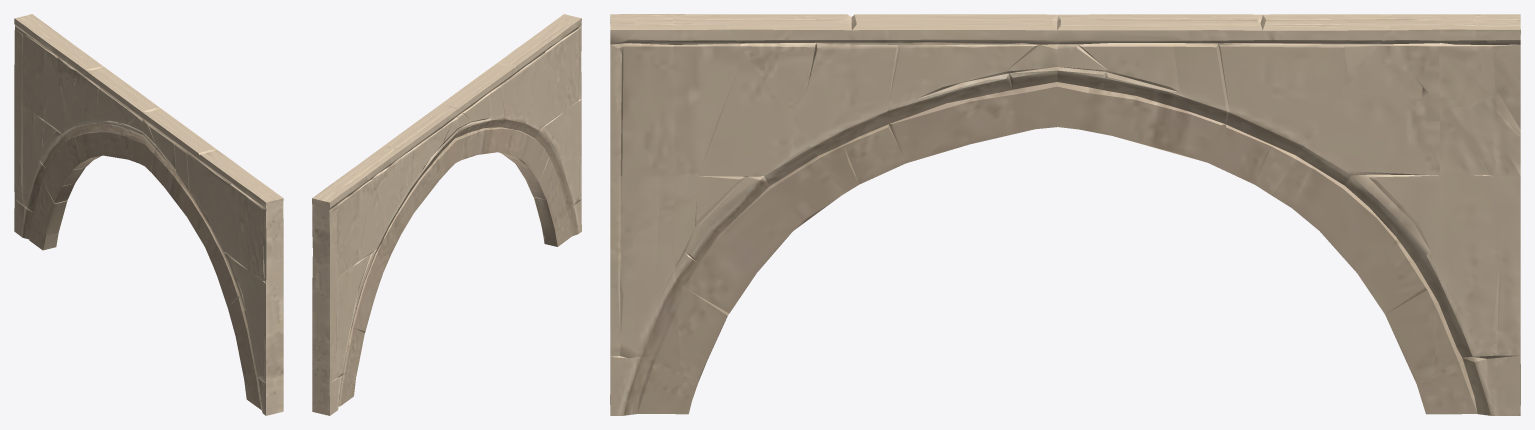
The model's file is SM_GongMen06_6b4e87.glb.
3 renders of one model, left to right at view 1: azimuth 30°, elevation 25°; view 2: azimuth 150°, elevation 25°; view 3: azimuth 270°, elevation 25°, orthographic. The views are drawn at different scales.
Visible parts, largest first — view 1: SM_GongMen06; view 2: SM_GongMen06; view 3: SM_GongMen06.
Part boxes in pixels (left/top/right/bottom): SM_GongMen06: left=14, top=14, right=283, bottom=415; SM_GongMen06: left=312, top=14, right=581, bottom=415; SM_GongMen06: left=610, top=14, right=1520, bottom=415.
Bounding box in the file's own units: 0.463 × 5.12 × 10.93.
Materials: 1 (1 with a texture image).
